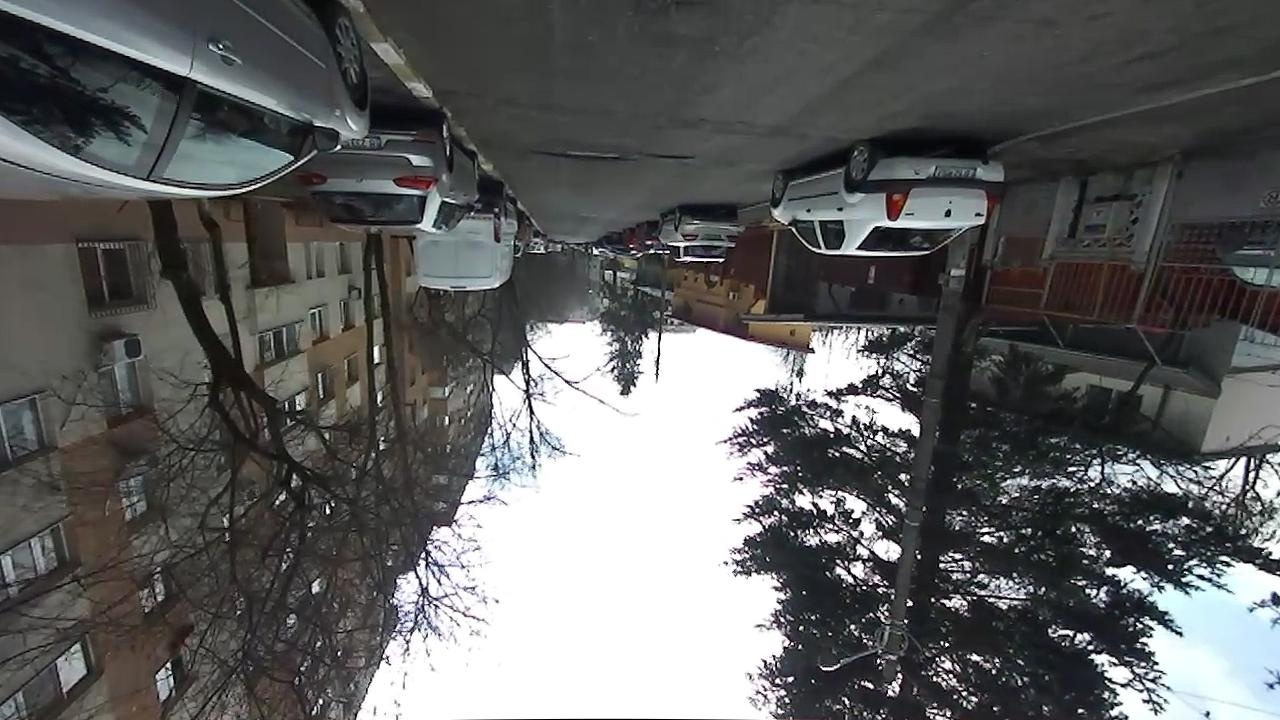pothole: (537, 148, 619, 161), (644, 152, 693, 159)
